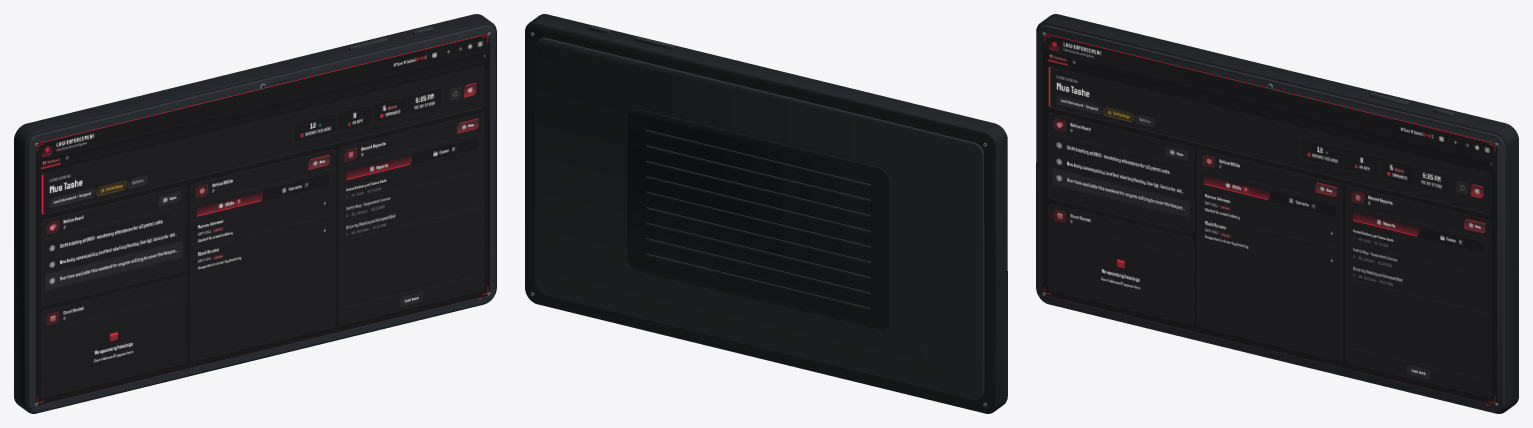
3 renders of one model, left to right at view 1: azimuth 30°, elevation 25°; view 2: azimuth 150°, elevation 25°; view 3: azimuth 330°, elevation 25°, orthographic.
Parts seen in each view (by area): view 1: MDT display - replaceable UV texture, Front bezel, Protective outer shell; view 2: Rear service panel, Rear inset grip, Protective outer shell, Rear grip rib (×9); view 3: MDT display - replaceable UV texture, Front bezel, Protective outer shell.
Boxes of the visible parts, left/top/right/bottom form: MDT display - replaceable UV texture: left=36, top=34, right=489, bottom=404; Front bezel: left=27, top=25, right=495, bottom=412; Protective outer shell: left=14, top=14, right=496, bottom=413; Rear service panel: left=535, top=37, right=984, bottom=399; Rear inset grip: left=627, top=108, right=890, bottom=330; Protective outer shell: left=525, top=14, right=1007, bottom=413; Rear grip rib (×9): left=645, top=129, right=870, bottom=309; MDT display - replaceable UV texture: left=1043, top=34, right=1496, bottom=404; Front bezel: left=1037, top=25, right=1505, bottom=412; Protective outer shell: left=1036, top=14, right=1518, bottom=413.
Size of the model in its own units: 0.32 by 0.186 by 0.019.
7 materials, 1 textured.
